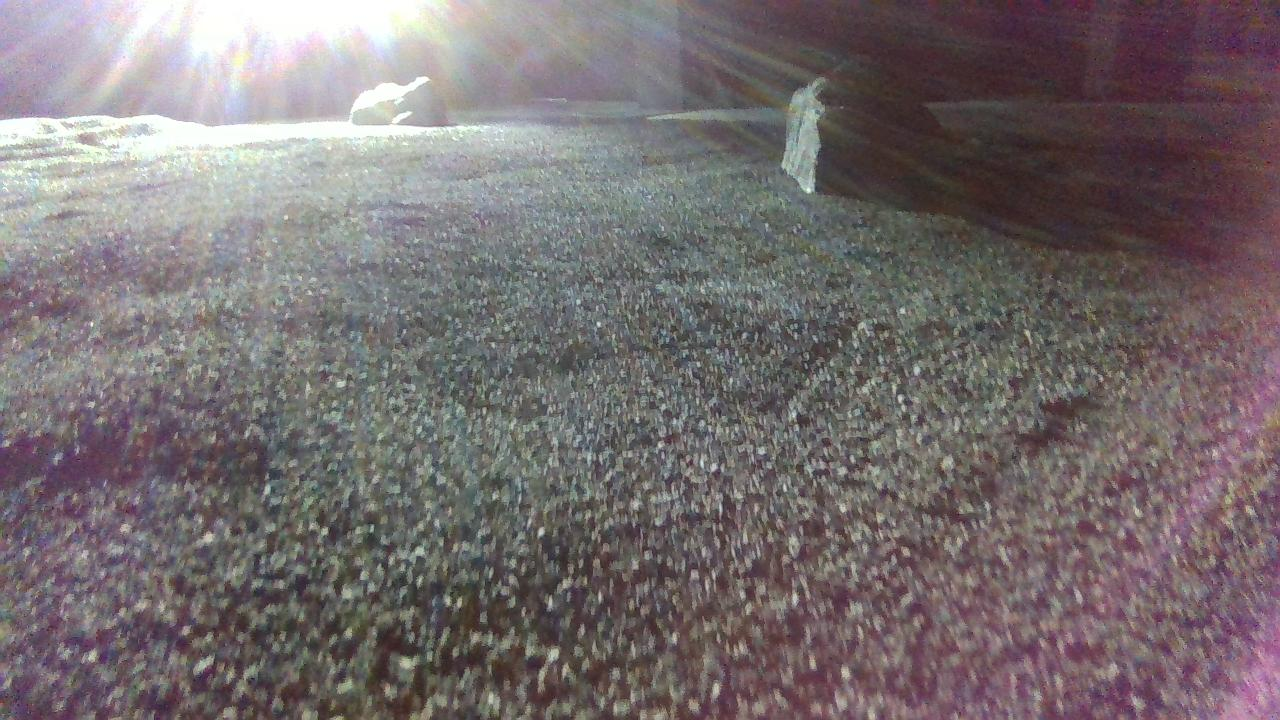rock: (786, 57, 950, 191), (351, 83, 457, 125)
